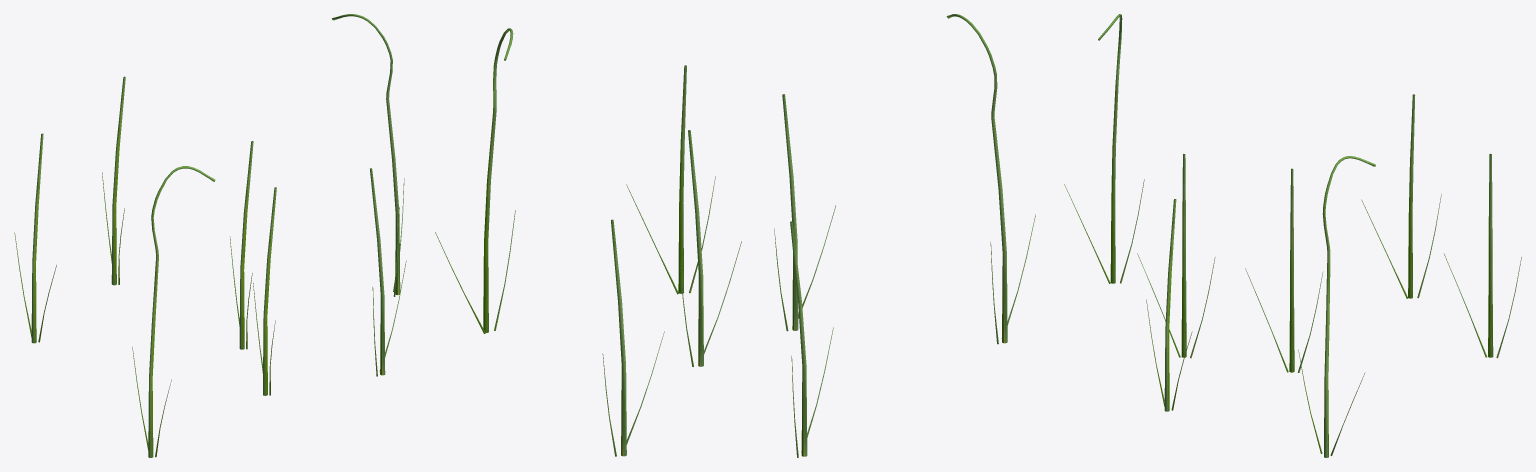
The model's file is meadow_grass_blades.glb.
The picture shows the model from 3 angles, left to right: view 1: azimuth 30°, elevation 25°; view 2: azimuth 150°, elevation 25°; view 3: azimuth 270°, elevation 25°; orthographic projection. The views are drawn at different scales.
Visible parts, largest first — view 1: meadow_grass_blades; view 2: meadow_grass_blades; view 3: meadow_grass_blades.
Boxes of the visible parts, x1,y1,x2,y2 form: meadow_grass_blades: [14, 14, 406, 457]; meadow_grass_blades: [435, 14, 1035, 457]; meadow_grass_blades: [1064, 14, 1521, 457].
Size of the model in its own units: 0.8517 by 0.5986 by 0.8735.
1 material, 1 textured.
